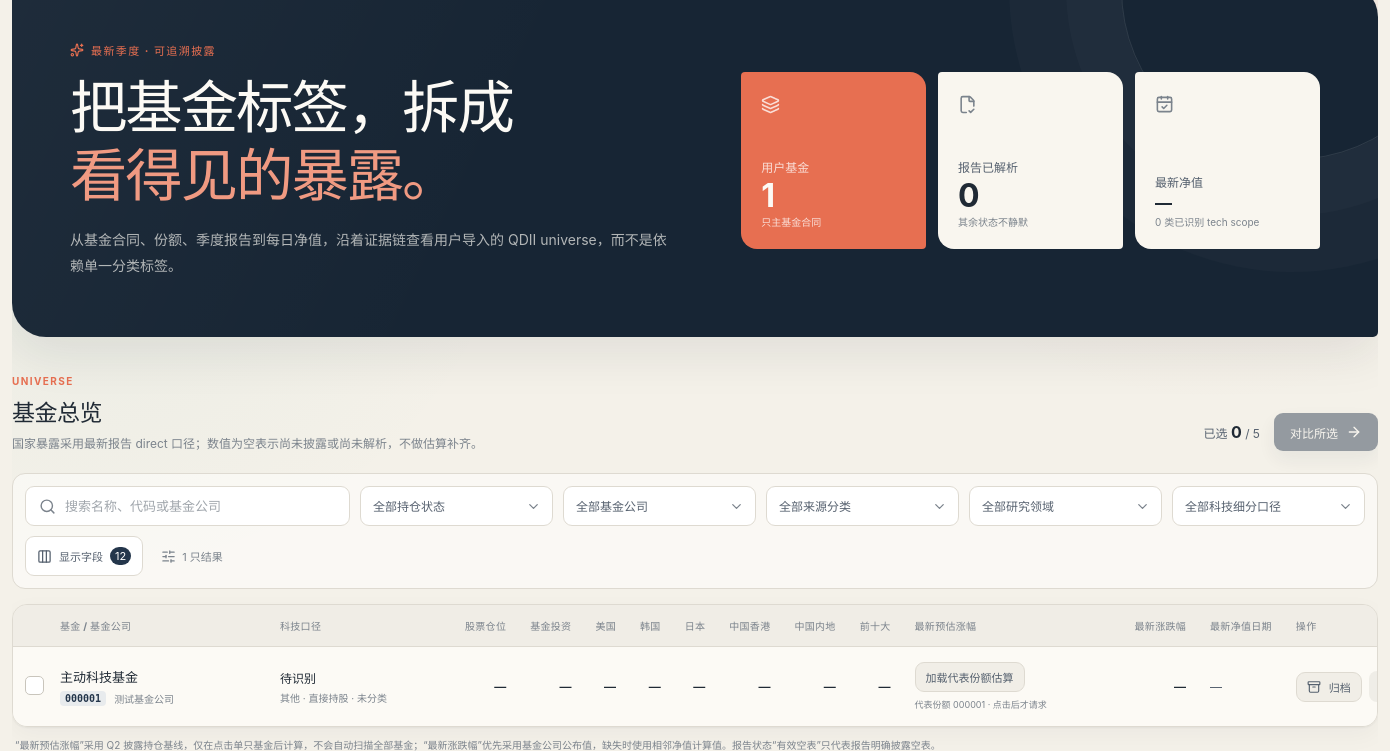
FundOverviewPage › loads the disclosed-holdings estimate only for the requested active fund
Click the button with aria-label "加载 主动科技基金 代表份额 000001 的 Q2 估算" at {"x": 970, "y": 677}, box [914,662,1024,692]
(page scrolled)
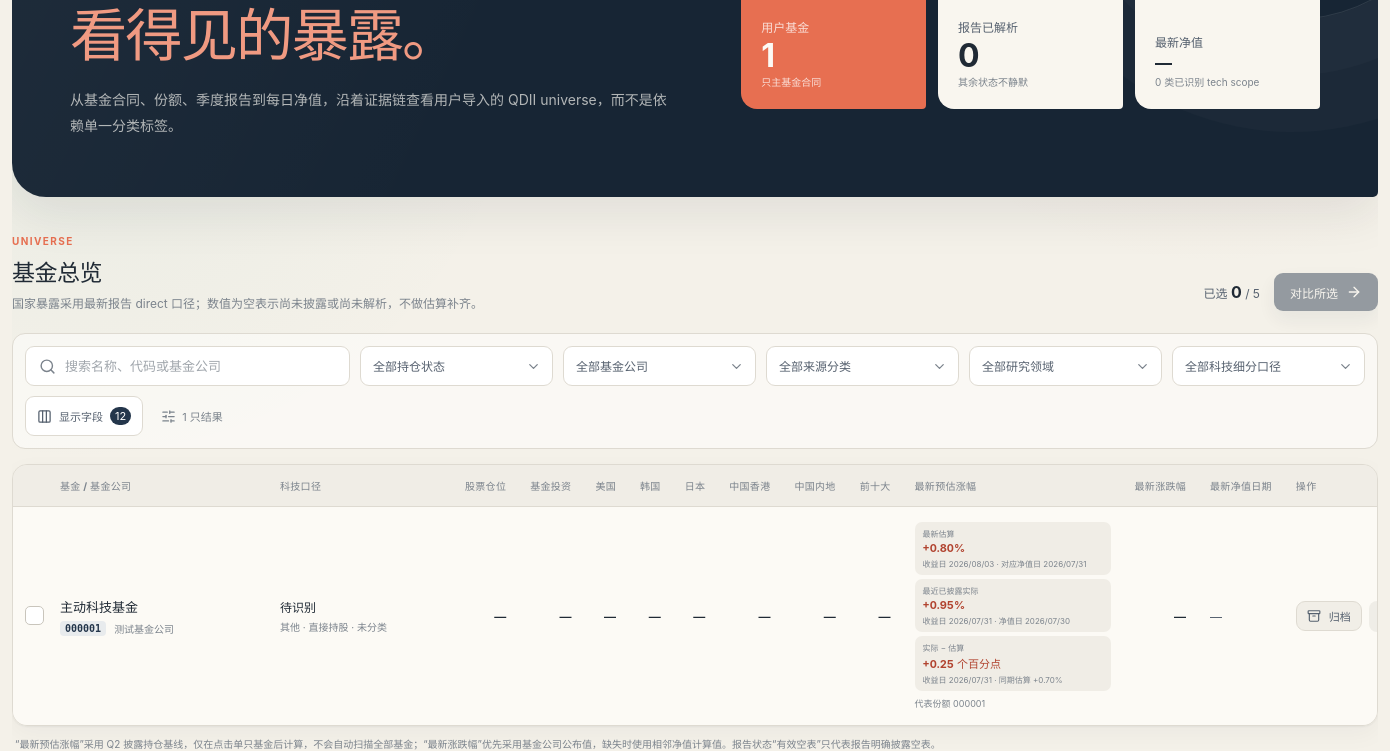
Check: the text "+0.80%" is shown, box [922,541,965,555]
Check: the text "收益日 2026/08/03 · 对应净值日 2026/07/31" is shown, box [922,558,1102,569]
Check: the text "+0.95%" is shown, box [922,598,965,612]
